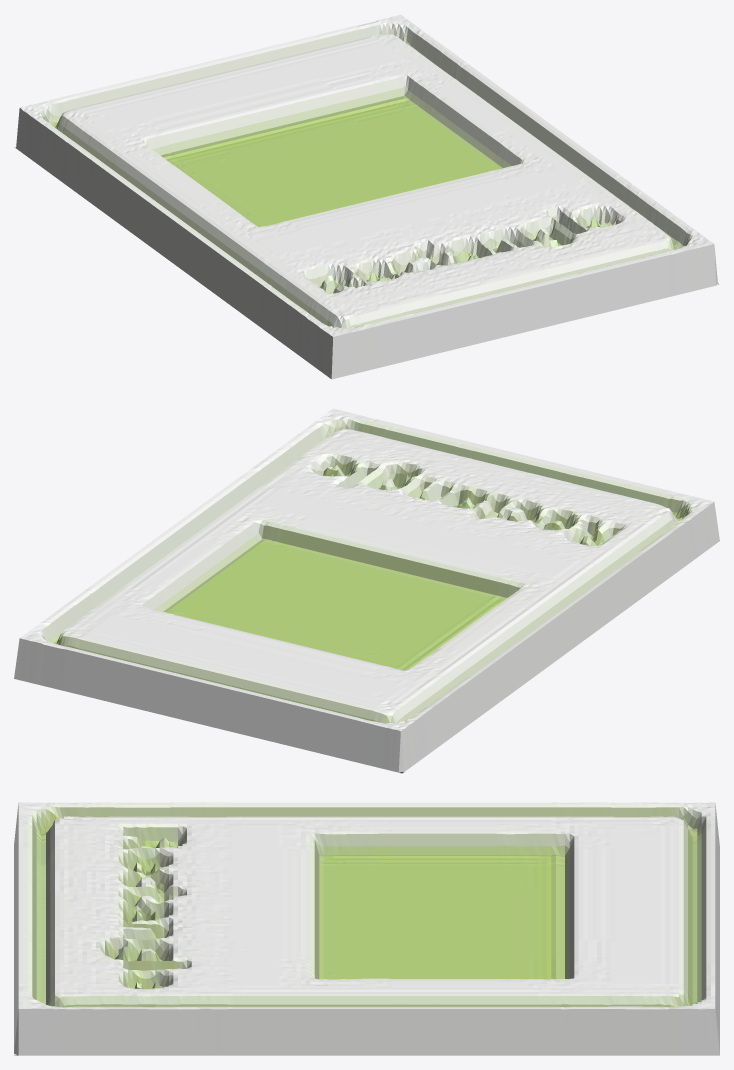
The picture shows the model from 3 angles, top to bottom: view 1: azimuth 30°, elevation 25°; view 2: azimuth 150°, elevation 25°; view 3: azimuth 270°, elevation 25°; orthographic projection. The views are drawn at different scales.
Parts seen in each view (by area): view 1: imagetostl_mesh0; view 2: imagetostl_mesh0; view 3: imagetostl_mesh0.
Boxes of the visible parts, x1=… form: imagetostl_mesh0: x1=14, y1=14, x2=719, y2=379; imagetostl_mesh0: x1=14, y1=408, x2=719, y2=773; imagetostl_mesh0: x1=14, y1=802, x2=719, y2=1055.
Size of the model in its own units: 2564 by 254 by 3632.
